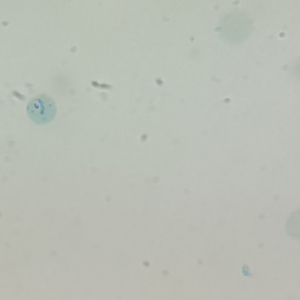aggregate reticulocyte: (24, 93, 58, 127)
erythrocyte: (215, 10, 255, 43)
